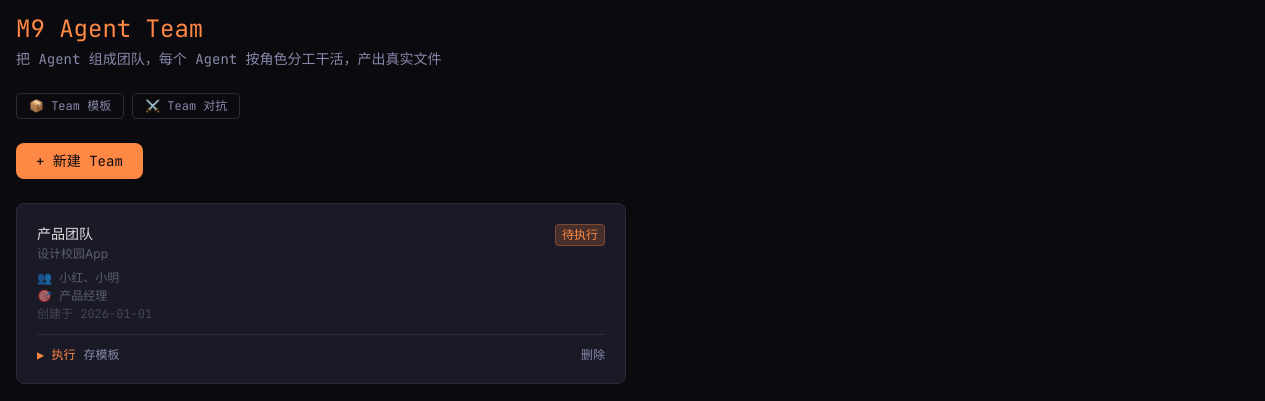
Test: TeamDashboard › executes a team and enters the live dashboard
Click the button "▶ 执行": coordinates (56, 355) [37, 347, 75, 363]
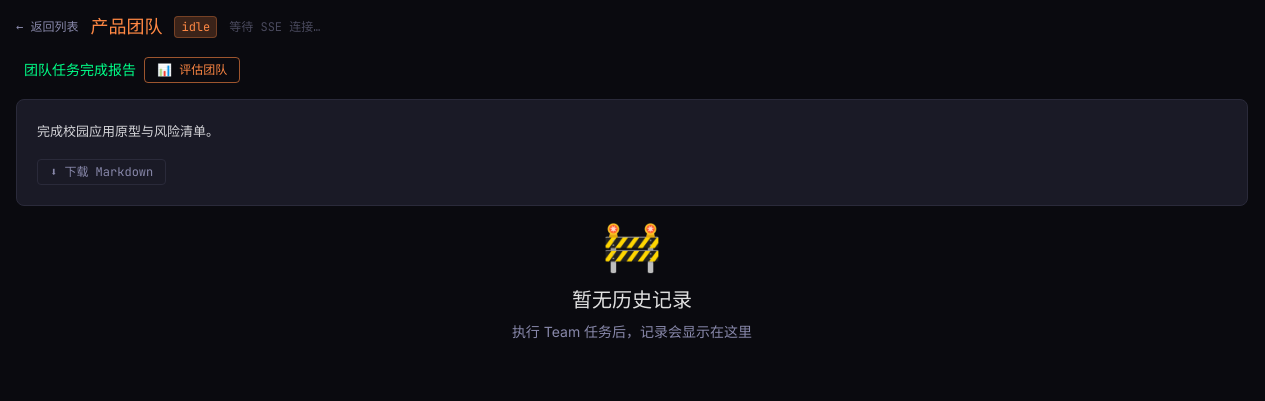
Expected: the button "← 返回列表" is shown, [16, 19, 78, 35]
Expected: the text "完成校园应用原型与风险清单。" is shown, [37, 123, 219, 139]
